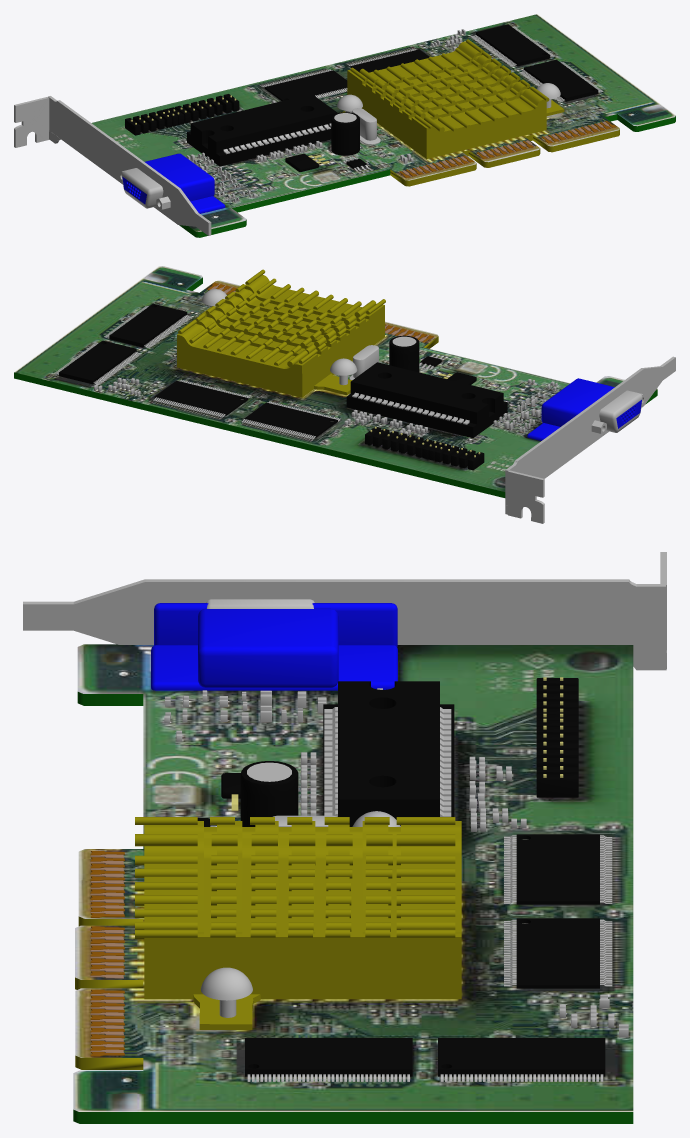
Rendered from gpu.glb.
The picture shows the model from 3 angles, top to bottom: view 1: azimuth 30°, elevation 25°; view 2: azimuth 150°, elevation 25°; view 3: azimuth 270°, elevation 25°; orthographic projection. The views are drawn at different scales.
Visible parts, largest first — view 1: Plane003.001, Line004.006, Line001.007, Box001.007, ChamferBox003.007, Box032.002, Box033.002, Box030.002, Cylinder075.001, ChamferBox004.006, Box031.002, Rectangle002.005 (+2 smaller); view 2: Plane003.001, Line004.006, Box001.007, Line001.007, ChamferBox003.007, Box033.002, Box032.002, Box031.002, Box030.002, ChamferBox004.006, Cylinder075.001, Rectangle002.005 (+1 smaller); view 3: Plane003.001, Line004.006, Line001.007, Box001.007, ChamferBox003.007, Box032.002, Box033.002, Box031.002, Box030.002, ChamferBox001.007, ChamferBox002.007, Cylinder075.001 (+4 smaller).
Part boxes in pixels (<box>): Plane003.001: <box>91,14,675,237</box>; Line004.006: <box>347,41,546,159</box>; Line001.007: <box>14,96,211,235</box>; Box001.007: <box>187,94,337,166</box>; ChamferBox003.007: <box>145,153,214,201</box>; Box032.002: <box>476,24,550,66</box>; Box033.002: <box>524,59,598,101</box>; Box030.002: <box>264,70,347,100</box>; Cylinder075.001: <box>331,112,359,155</box>; ChamferBox004.006: <box>121,168,163,208</box>; Box031.002: <box>350,49,429,72</box>; Rectangle002.005: <box>352,108,376,140</box>; Plane003.001: <box>14,266,657,497</box>; Line004.006: <box>177,274,384,397</box>; Box001.007: <box>346,362,507,437</box>; Line001.007: <box>505,356,675,523</box>; ChamferBox003.007: <box>541,378,614,426</box>; Box033.002: <box>109,303,186,347</box>; Box032.002: <box>59,340,136,384</box>; Box031.002: <box>154,380,248,415</box>; Box030.002: <box>244,402,337,437</box>; ChamferBox004.006: <box>599,390,642,432</box>; Cylinder075.001: <box>389,335,419,372</box>; Rectangle002.005: <box>353,345,378,377</box>; Plane003.001: <box>73,644,633,1123</box>; Line004.006: <box>144,821,461,999</box>; Line001.007: <box>23,552,666,670</box>; Box001.007: <box>323,681,454,826</box>; ChamferBox003.007: <box>198,608,338,687</box>; Box032.002: <box>438,1038,605,1076</box>; Box033.002: <box>245,1038,412,1076</box>; Box031.002: <box>516,918,599,988</box>; Box030.002: <box>516,834,599,904</box>; ChamferBox001.007: <box>151,645,397,690</box>; ChamferBox002.007: <box>154,603,397,646</box>; Cylinder075.001: <box>240,761,298,826</box>.
Bounding box in the file's own units: 3.24 × 0.2907 × 1.75.
17 materials, 4 textured.
